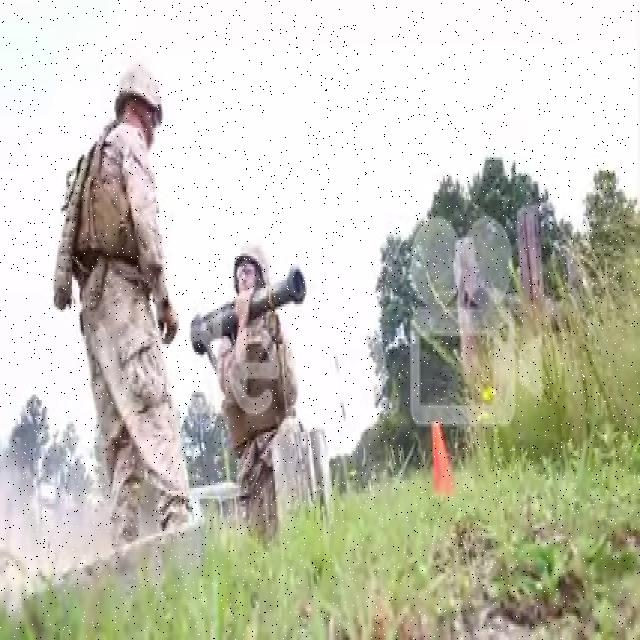bazooka: (190, 263, 310, 366)
